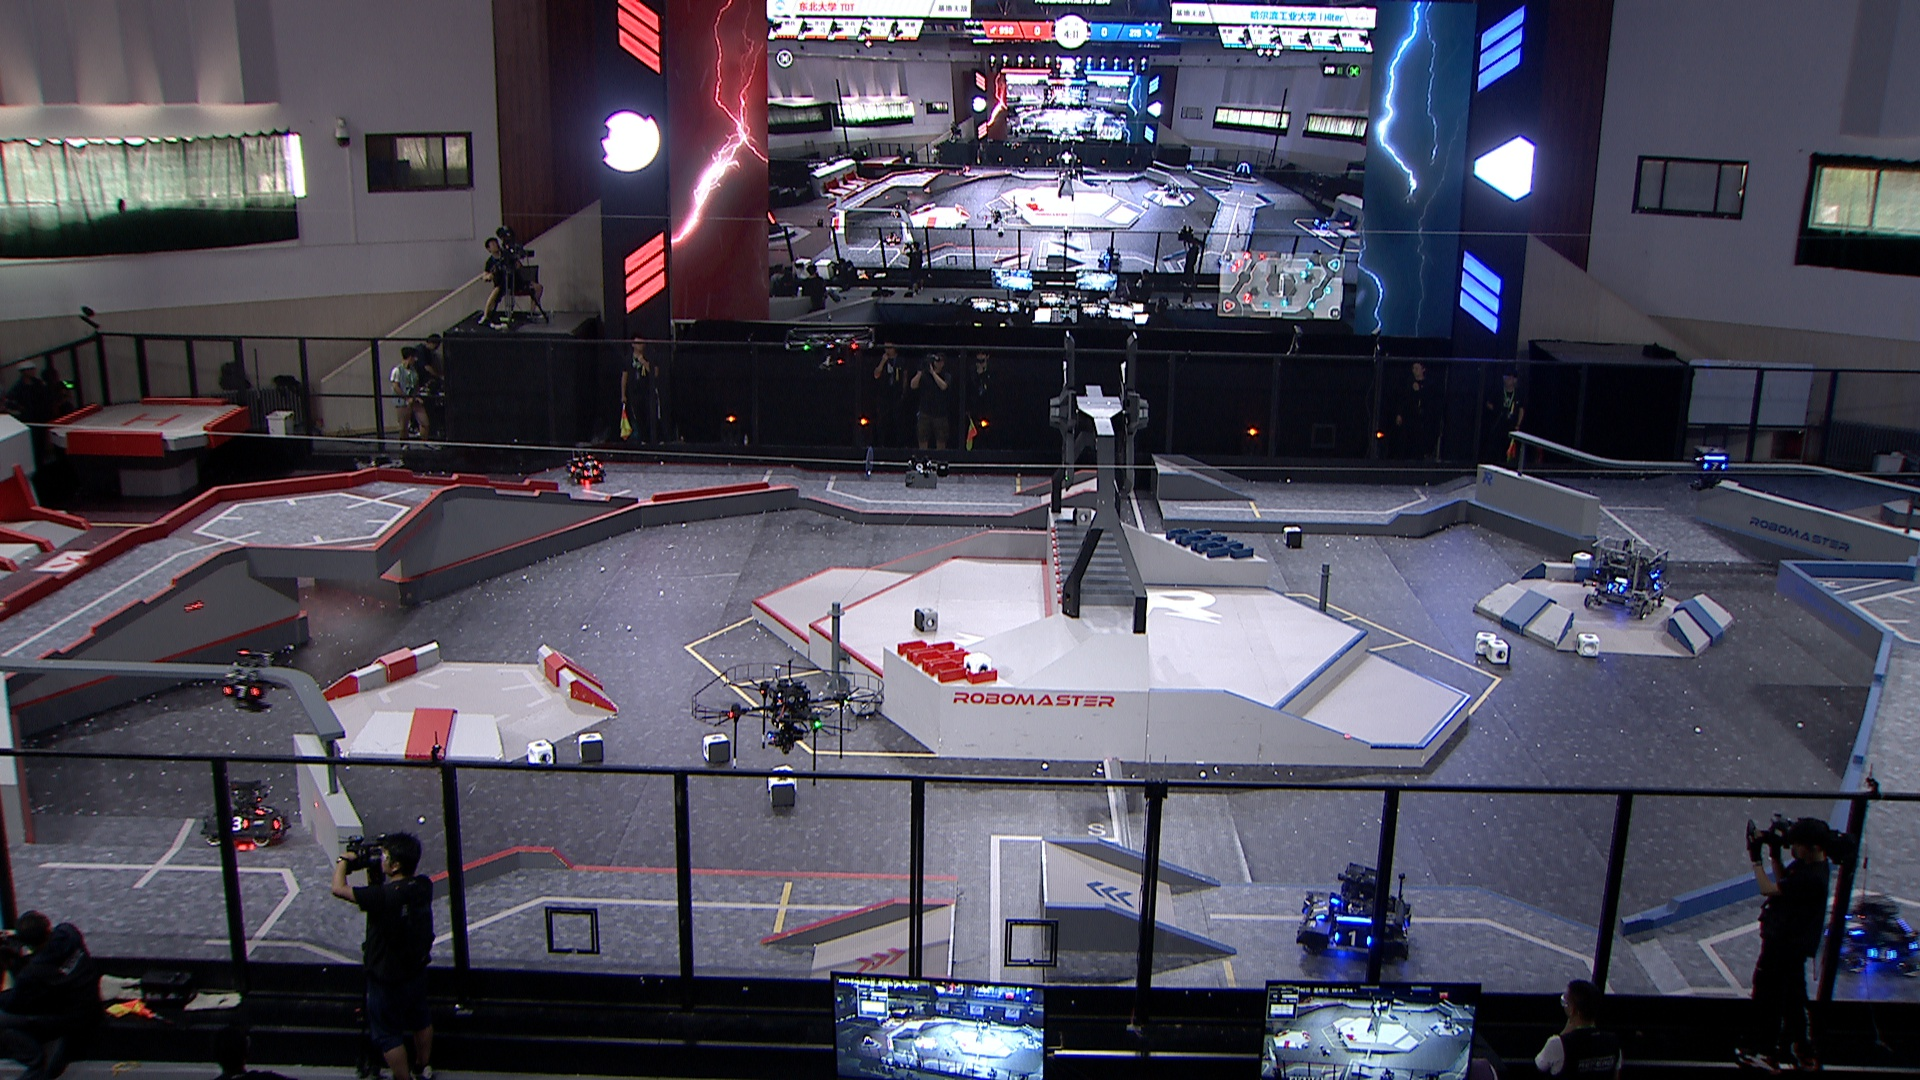armor: (1332, 928, 1375, 949), (220, 683, 258, 700), (1869, 944, 1898, 965), (1846, 913, 1866, 938), (231, 815, 253, 835), (1313, 901, 1331, 920), (1400, 920, 1414, 944), (1702, 460, 1727, 472), (272, 815, 289, 832), (1607, 583, 1626, 597), (255, 804, 276, 816), (576, 460, 600, 469), (1652, 578, 1665, 591), (583, 469, 600, 479)
car: (1292, 861, 1414, 968), (1822, 891, 1920, 977), (1580, 534, 1671, 621), (200, 777, 294, 851), (560, 442, 609, 484)
ignore: (1096, 245, 1121, 270), (766, 210, 785, 237), (1234, 161, 1254, 181), (1313, 214, 1332, 232), (1164, 181, 1185, 196), (884, 229, 903, 245), (891, 204, 906, 220), (1183, 164, 1196, 175)
watcher: (220, 647, 276, 713), (1689, 444, 1731, 493)
